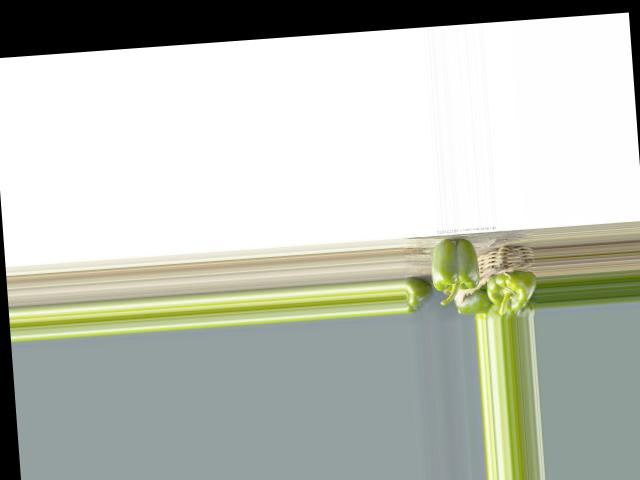bell_pepper: (403, 282, 425, 312)
